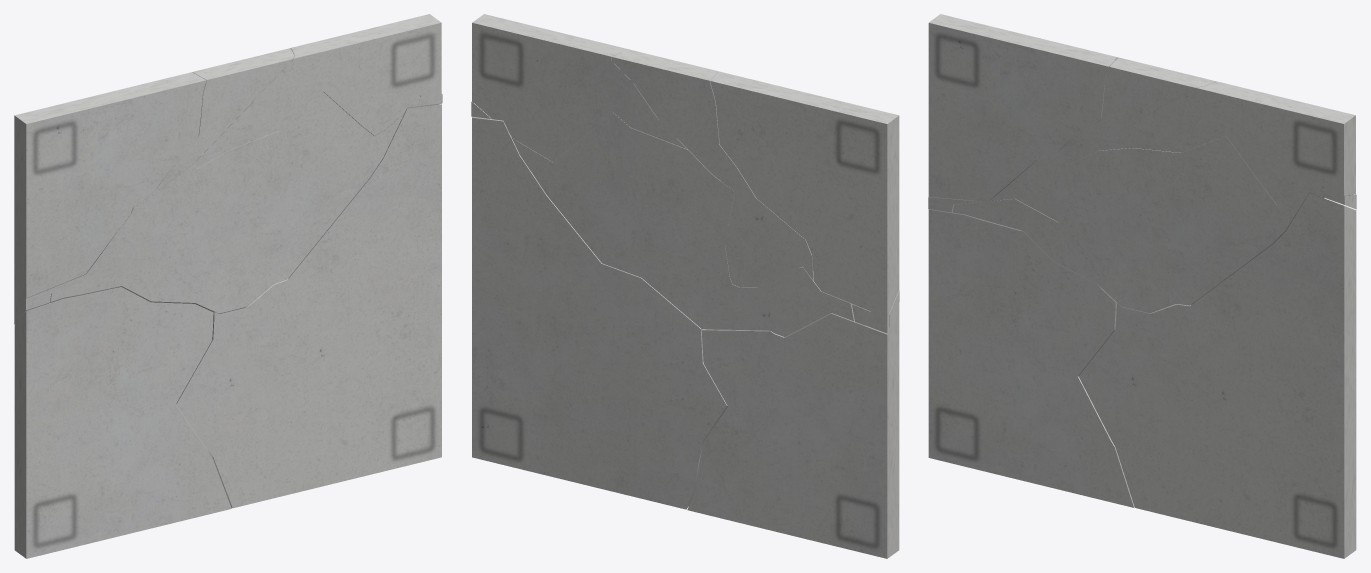
Rendered from crack_wall.fbx.
The picture shows the model from 3 angles, left to right: view 1: azimuth 30°, elevation 25°; view 2: azimuth 150°, elevation 25°; view 3: azimuth 330°, elevation 25°; orthographic projection.
Visible parts, largest first — view 1: Plane_005, Plane_006, Plane_012, Plane_007, Plane_015, Plane_009, Plane_016; view 2: Plane_005, Plane_006, Plane_012, Plane_007, Plane_015, Plane_009; view 3: Plane_005, Plane_006, Plane_012, Plane_007, Plane_015, Plane_009.
Part boxes in pixels (left/top/right/bottom): Plane_005: left=176, top=104, right=441, bottom=508; Plane_006: left=14, top=287, right=231, bottom=558; Plane_012: left=49, top=92, right=402, bottom=313; Plane_007: left=14, top=72, right=206, bottom=324; Plane_015: left=87, top=14, right=441, bottom=272; Plane_009: left=104, top=48, right=293, bottom=249; Plane_016: left=15, top=277, right=79, bottom=321; Plane_005: left=472, top=117, right=727, bottom=509; Plane_006: left=687, top=303, right=899, bottom=558; Plane_012: left=511, top=112, right=854, bottom=336; Plane_007: left=710, top=71, right=899, bottom=333; Plane_015: left=472, top=14, right=802, bottom=267; Plane_009: left=611, top=50, right=813, bottom=287; Plane_005: left=1078, top=193, right=1356, bottom=558; Plane_006: left=928, top=209, right=1134, bottom=507; Plane_012: left=952, top=135, right=1305, bottom=313; Plane_007: left=928, top=14, right=1117, bottom=202; Plane_015: left=990, top=81, right=1355, bottom=221; Plane_009: left=1040, top=57, right=1216, bottom=158.
Bounding box in the file's own units: 2 × 2 × 0.0997.
